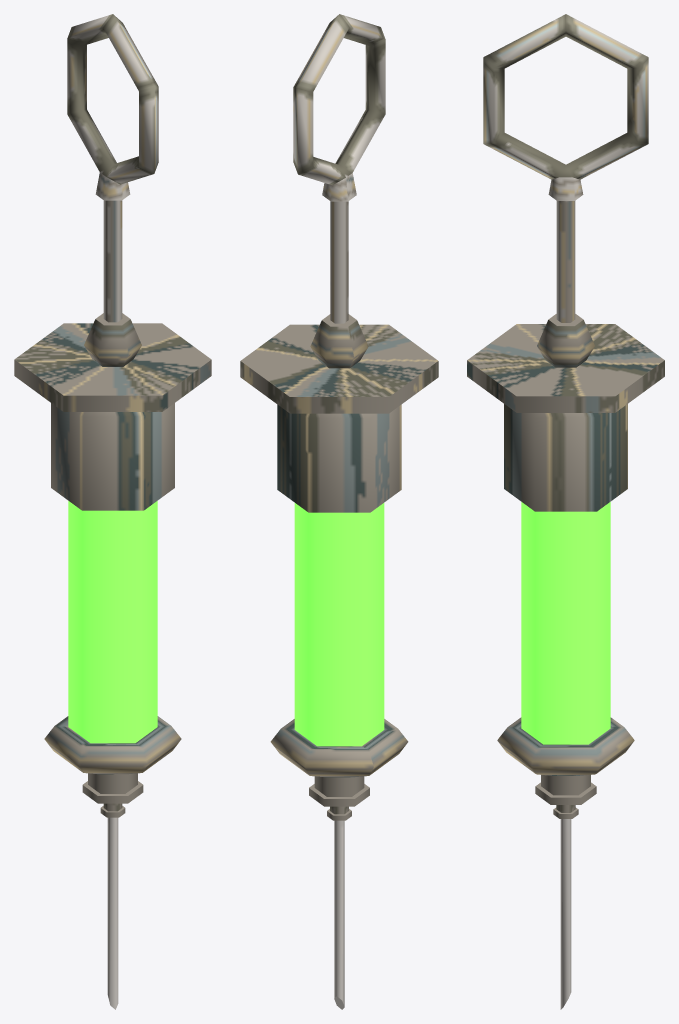
File: syringe.gltf
The picture shows the model from 3 angles, left to right: view 1: azimuth 30°, elevation 25°; view 2: azimuth 150°, elevation 25°; view 3: azimuth 270°, elevation 25°; orthographic projection.
Parts seen in each view (by area): view 1: Cylinder; view 2: Cylinder; view 3: Cylinder.
Boxes of the visible parts, left/top/right/bottom form: Cylinder: left=14, top=14, right=211, bottom=1009; Cylinder: left=240, top=14, right=438, bottom=1009; Cylinder: left=467, top=14, right=664, bottom=1009.
Bounding box in the file's own units: 0.2033 × 1.31 × 0.2348.
2 materials, 1 textured.
